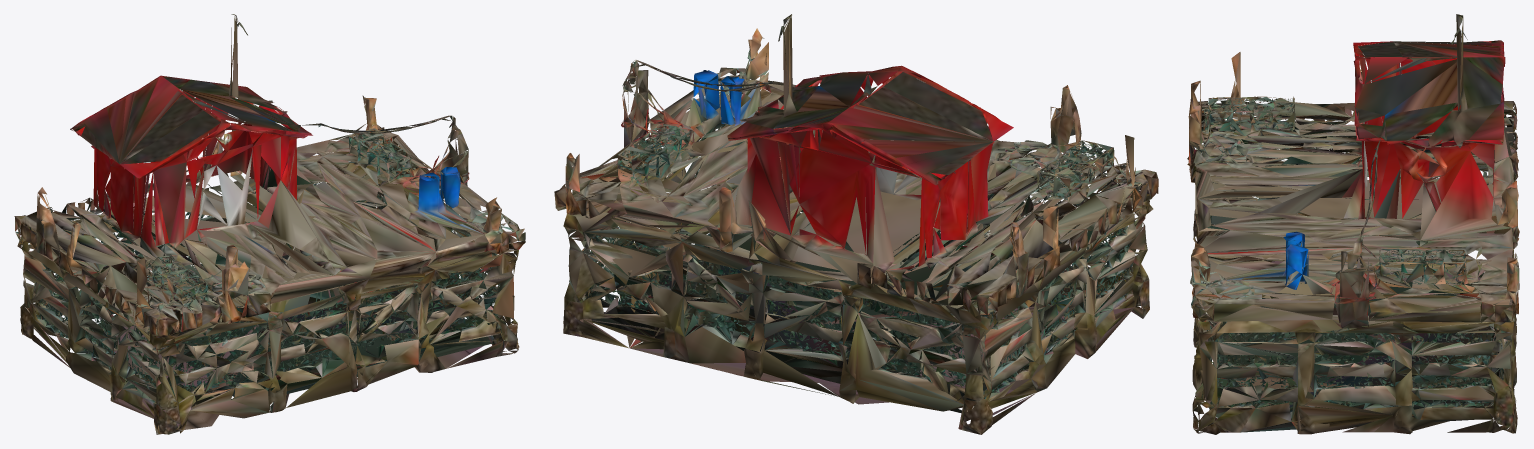
File: fischreuse.glb
3 views of the same model, side by side, from view 1: azimuth 30°, elevation 25°; view 2: azimuth 150°, elevation 25°; view 3: azimuth 270°, elevation 25° (orthographic). The views are drawn at different scales.
Size of the model in its own units: 1.9 by 1.4 by 1.28.
1 material, 1 textured.
